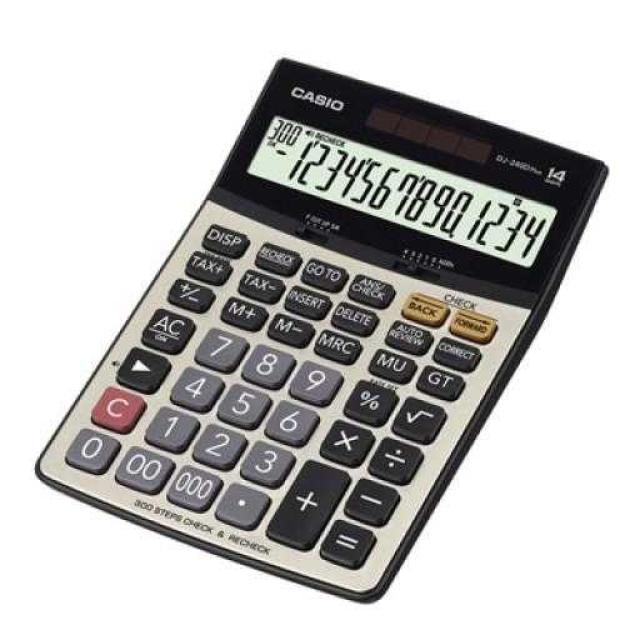Calculator: (32, 55, 608, 604)
